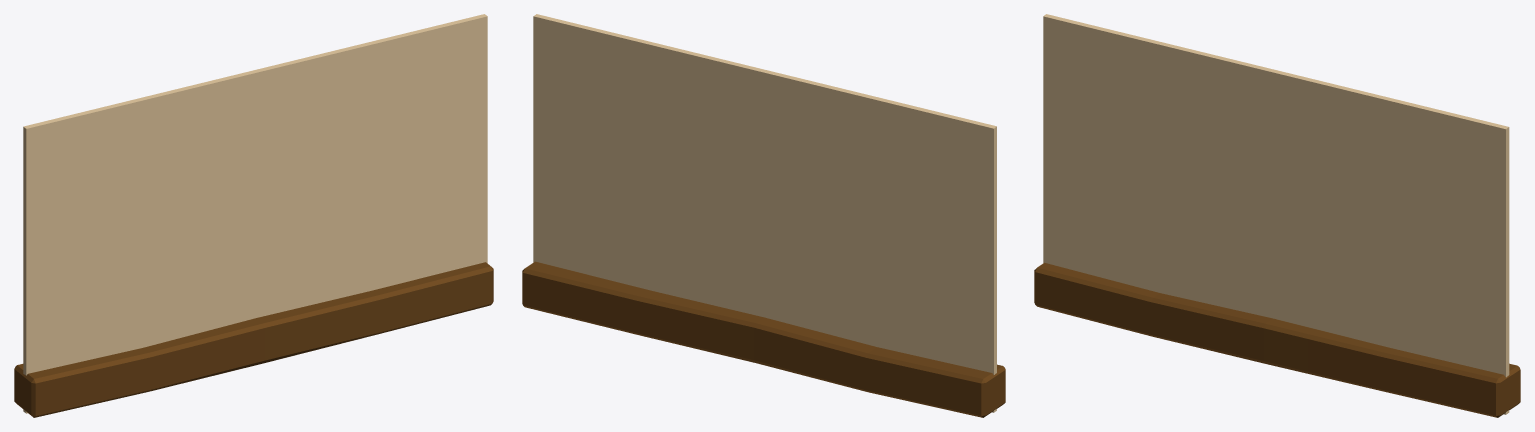
The model's file is Wall_04.fbx.
3 views of the same model, side by side, from view 1: azimuth 30°, elevation 25°; view 2: azimuth 150°, elevation 25°; view 3: azimuth 330°, elevation 25° (orthographic).
Visible parts, largest first — view 1: Wall_04; view 2: Wall_04; view 3: Wall_04.
Part boxes in pixels (bbox=[...]): Wall_04: bbox=[14, 14, 493, 417]; Wall_04: bbox=[522, 14, 1005, 417]; Wall_04: bbox=[1034, 14, 1520, 417].
Bounding box in the file's own units: 476 × 280 × 41.92.
